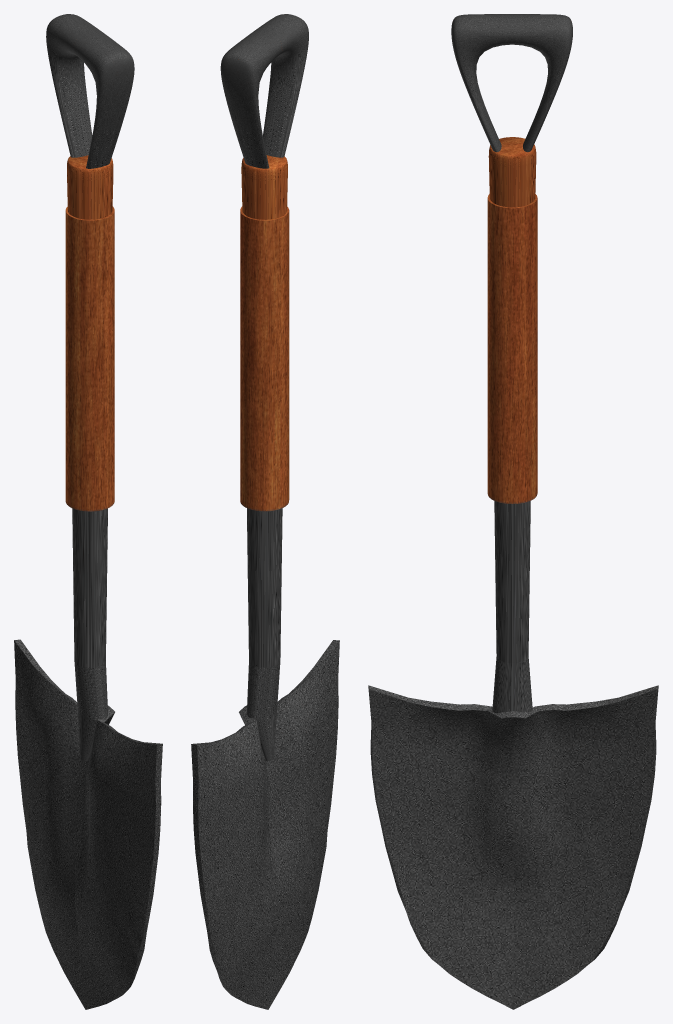
File: Pala_Texturizada.fbx
3 views of the same model, side by side, from view 1: azimuth 30°, elevation 25°; view 2: azimuth 150°, elevation 25°; view 3: azimuth 270°, elevation 25° (orthographic).
Visible parts, largest first — view 1: Plane; view 2: Plane; view 3: Plane.
Part boxes in pixels (box(x1,y1,x2,y2)): Plane: box(14, 14, 162, 1009); Plane: box(191, 14, 339, 1009); Plane: box(368, 14, 658, 1009).
Size of the model in its own units: 22.61 by 497 by 132.
Materials: 1 (1 with a texture image).
